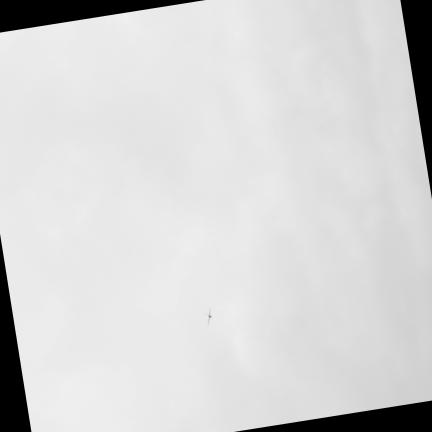Shahed: (207, 307, 211, 325)
